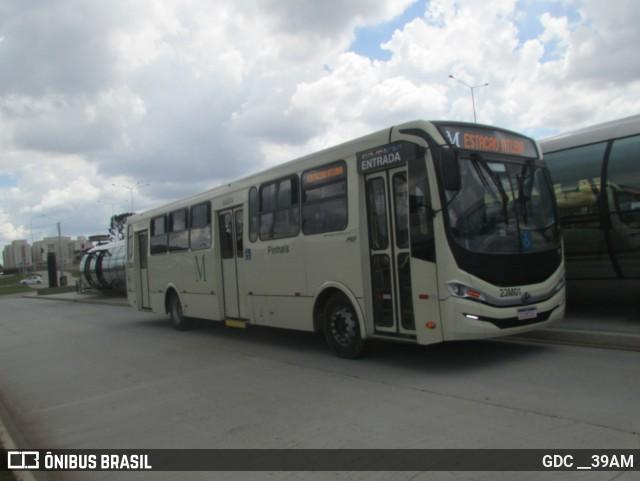ESTACAO ATUBA: (460, 130, 528, 157)
